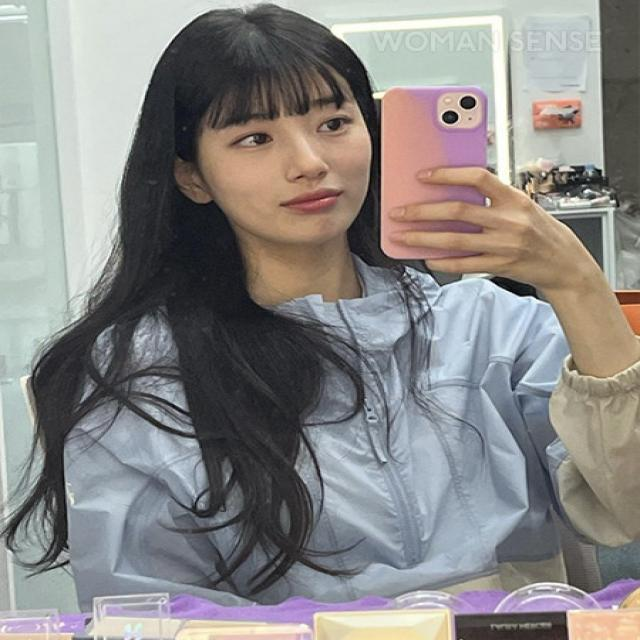phone: (382, 87, 486, 259)
